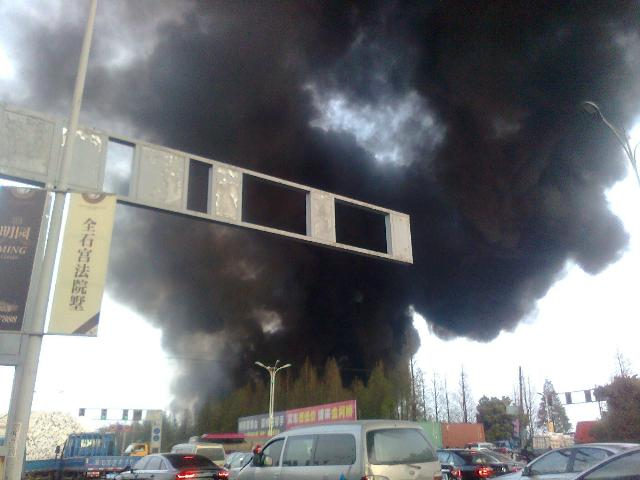smoke: (425, 9, 527, 345), (133, 252, 410, 372), (530, 3, 630, 261), (294, 0, 424, 187), (153, 0, 297, 155), (95, 7, 152, 127), (7, 2, 74, 90)
